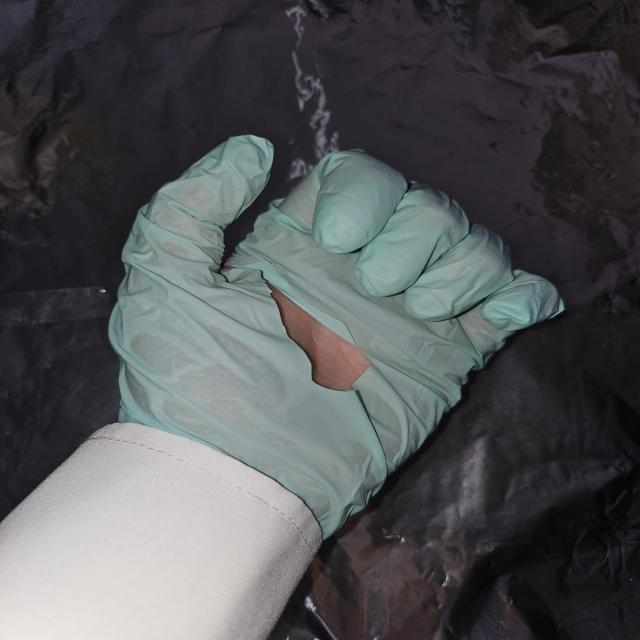gloves_damaged: (109, 133, 567, 538)
